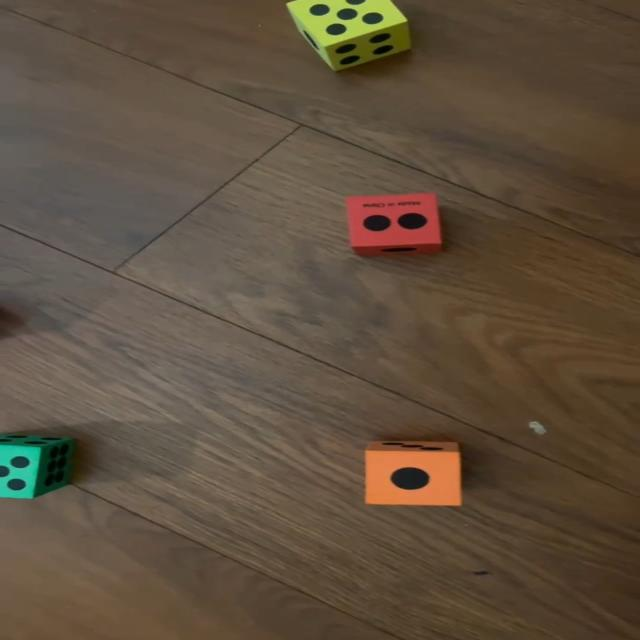red_block: (346, 193, 444, 257)
